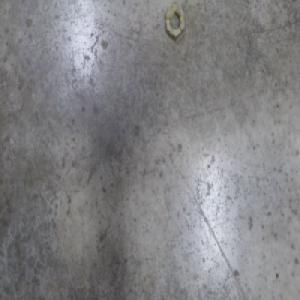Nut: (165, 1, 185, 41)
